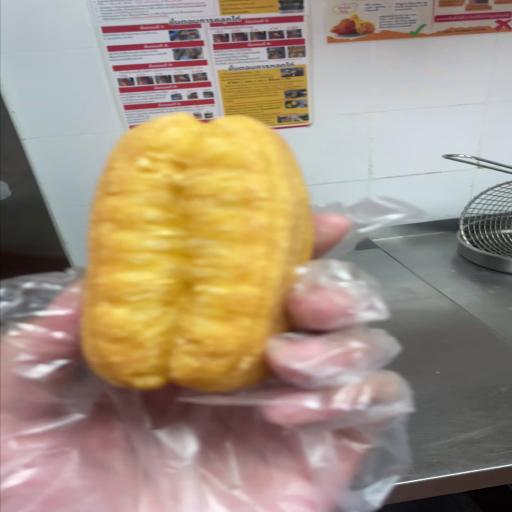brand_golden_good: (82, 114, 312, 392)
